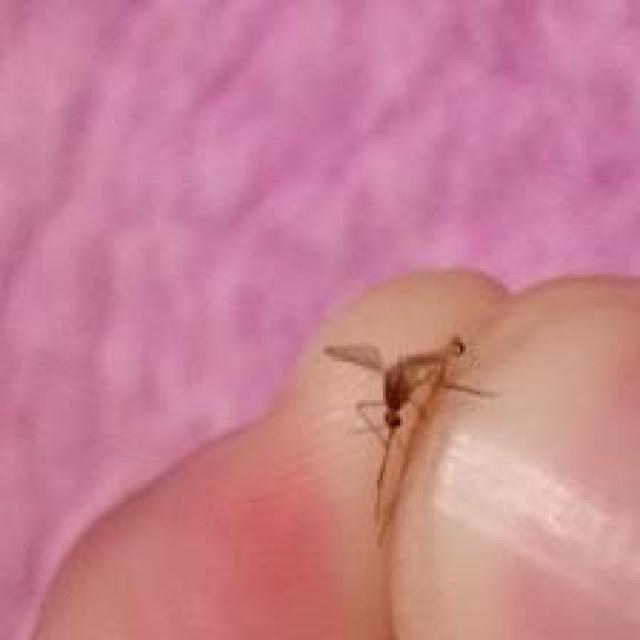Culex: (323, 333, 497, 547)
